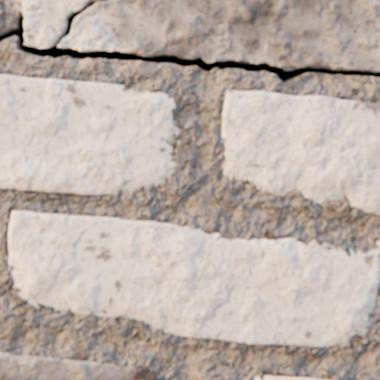brick: (9, 210, 379, 345), (0, 74, 178, 194), (222, 90, 379, 213), (0, 351, 164, 379), (253, 374, 331, 379)
broken_brick: (23, 0, 379, 71)
crack: (0, 1, 379, 81)
